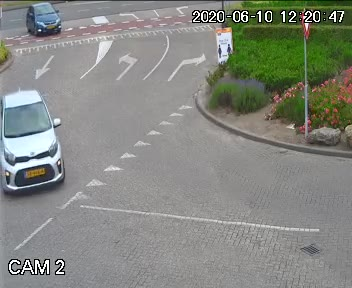car: (0, 85, 76, 195), (21, 0, 64, 40)
